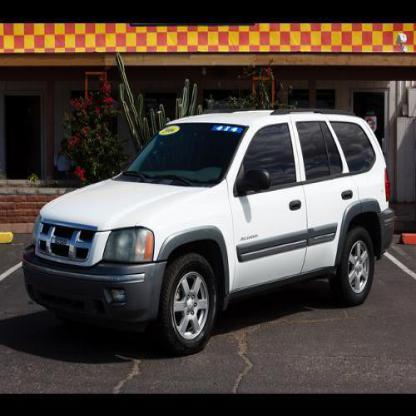Vehicle: (23, 107, 397, 352)
